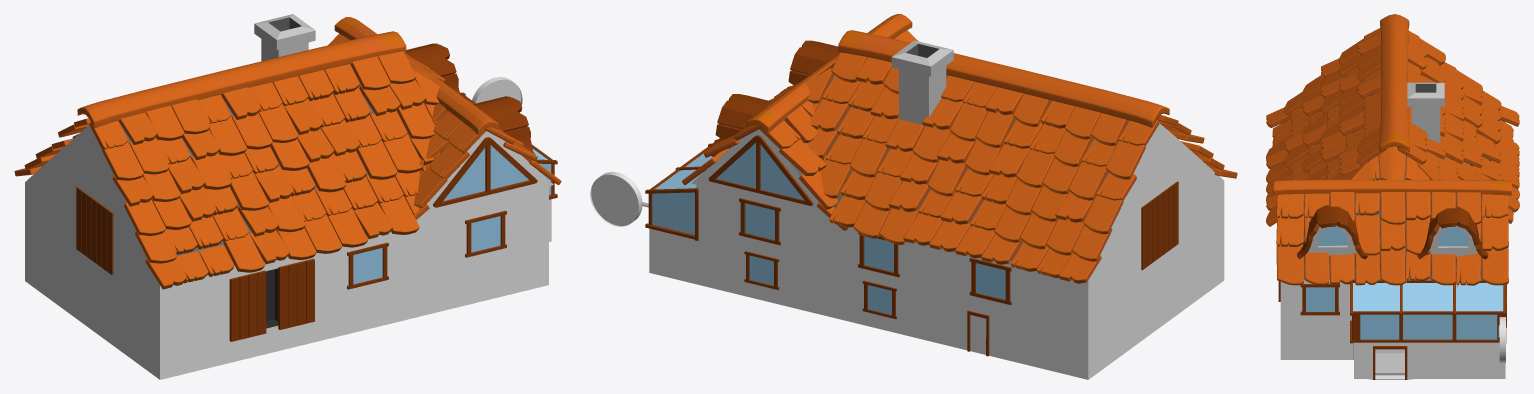
The model's file is Sketchfab_2019_03_11_17_34_10.fbx.
3 views of the same model, side by side, from view 1: azimuth 30°, elevation 25°; view 2: azimuth 150°, elevation 25°; view 3: azimuth 270°, elevation 25° (orthographic). The views are drawn at different scales.
Visible parts, largest first — view 1: Plane.026, Cube, Plane.005, Plane.183, Cube.017, Cube.014, Cube.003, Plane.006, Cube.015, Cube.016, Plane.009, Plane.007 (+4 smaller); view 2: Cube, Plane.104, Plane.005, Cube.011, Plane.183, Cube.003, Tierarzt_Schild, Plane.006, Cube.008, Cube.004, Plane.007, Cube.005 (+5 smaller); view 3: Plane.182, Plane.026, Cube, Plane.104, Cube.011, Plane.005, Plane.006, Plane.011, Plane.009, Plane.007, Cube.012, Cube.001 (+3 smaller).
Part boxes in pixels (x1,y1,x2,y2): Plane.026: (89,51,440,289); Cube: (25,14,553,379); Plane.005: (77,31,406,127); Plane.183: (328,33,485,219); Cube.017: (229,270,266,341); Cube.014: (277,258,314,329); Cube.003: (76,187,113,275); Plane.006: (334,17,499,134); Cube.015: (347,242,388,289); Cube.016: (465,210,506,257); Plane.009: (473,96,535,155); Plane.007: (405,43,459,94); Cube: (649,40,1224,379); Plane.104: (805,52,1159,283); Plane.005: (838,30,1169,127); Cube.011: (645,138,720,240); Plane.183: (759,30,918,230); Cube.003: (1141,181,1178,270); Tierarzt_Schild: (590,172,642,226); Plane.006: (746,14,912,132); Cube.008: (969,258,1011,304); Cube.004: (739,198,780,245); Plane.007: (710,94,769,156); Cube.005: (858,232,899,277); Plane.182: (1276,192,1508,287); Plane.026: (1266,28,1387,226); Cube: (1280,82,1505,379); Plane.104: (1397,31,1519,223); Cube.011: (1349,280,1507,343); Plane.005: (1379,14,1409,151); Plane.006: (1273,179,1511,195); Plane.011: (1356,146,1429,180); Plane.009: (1297,205,1367,259); Plane.007: (1417,205,1488,259); Cube.012: (1300,284,1339,315); Cube.001: (1430,225,1478,256).
Bounding box in the file's own units: 552 × 255 × 292.
